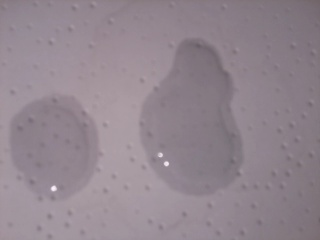Water_detected: (150, 59, 217, 172), (25, 104, 83, 184)
